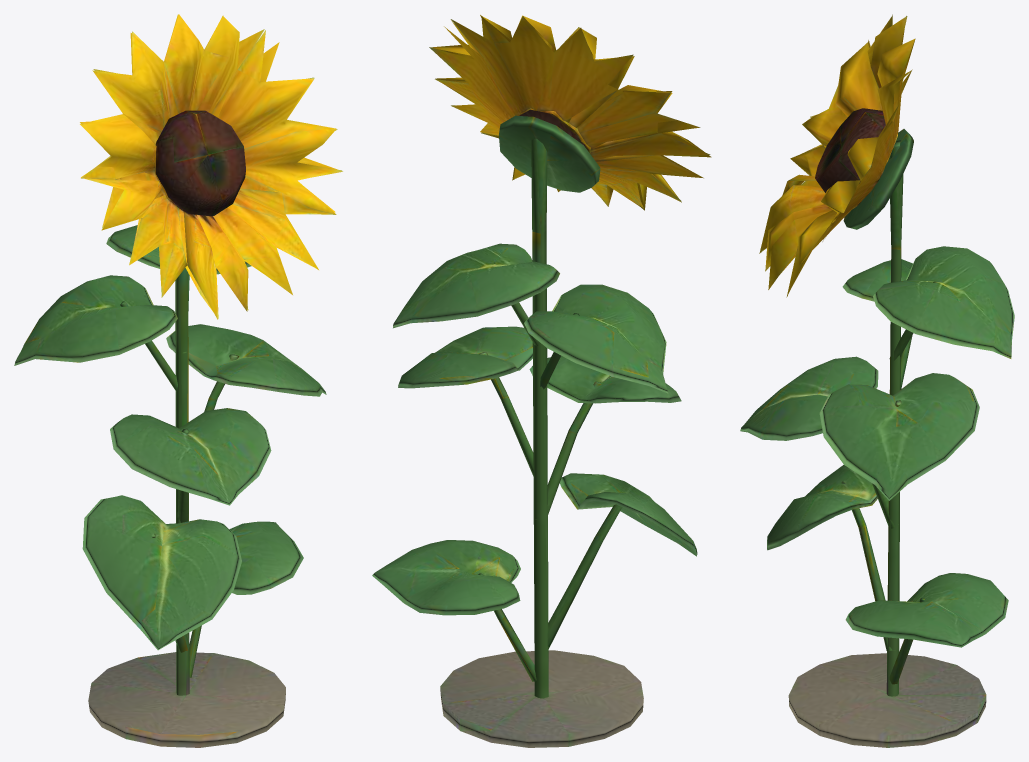
Rendered from crop-sunflower.glb.
3 renders of one model, left to right at view 1: azimuth 30°, elevation 25°; view 2: azimuth 150°, elevation 25°; view 3: azimuth 270°, elevation 25°, orthographic. The views are drawn at different scales.
Visible parts, largest first — view 1: plant, fruit; view 2: plant, fruit; view 3: plant, fruit.
Boxes of the visible parts, x1=… form: plant: x1=14, y1=225, x2=326, y2=738; fruit: x1=80, y1=14, x2=342, y2=747; plant: x1=372, y1=115, x2=697, y2=747; fruit: x1=429, y1=15, x2=711, y2=730; plant: x1=740, y1=129, x2=1014, y2=747; fruit: x1=759, y1=14, x2=978, y2=747.
Bounding box in the file's own units: 0.7085 × 1.6 × 0.5937.
Materials: 1 (1 with a texture image).
